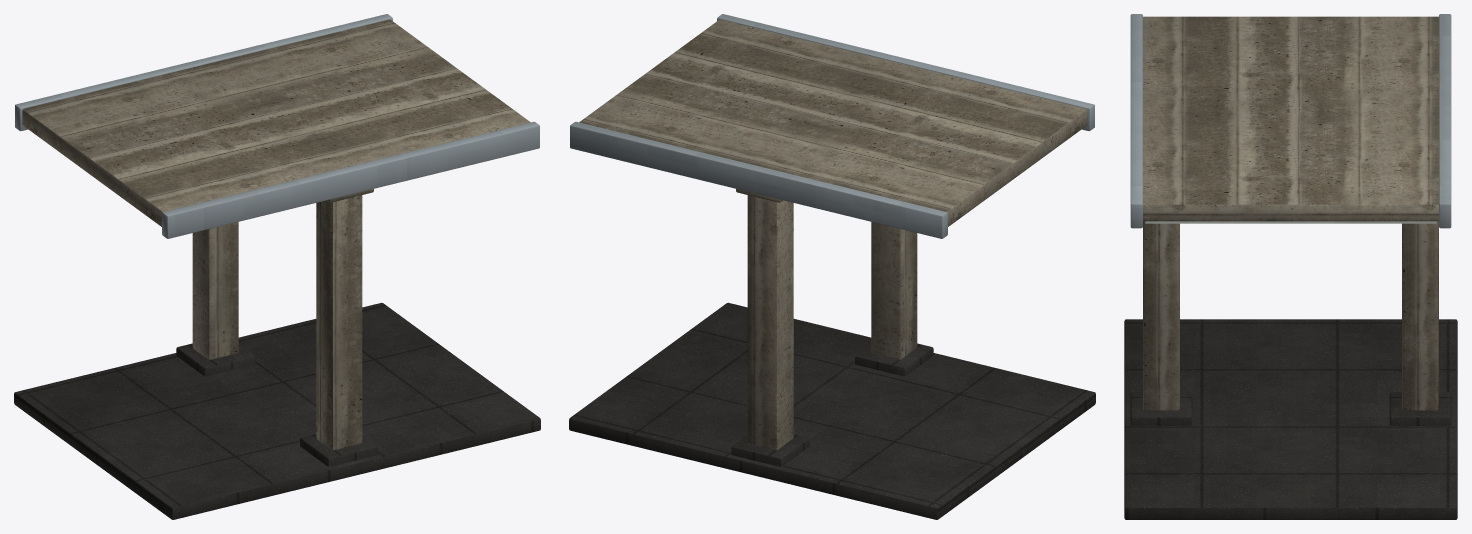
The model's file is fac_arcade.glb.
The picture shows the model from 3 angles, left to right: view 1: azimuth 30°, elevation 25°; view 2: azimuth 150°, elevation 25°; view 3: azimuth 270°, elevation 25°; orthographic projection. The views are drawn at different scales.
Visible parts, largest first — view 1: FAC_ARCADE; view 2: FAC_ARCADE; view 3: FAC_ARCADE.
Part boxes in pixels (x1,y1,x2,y2): FAC_ARCADE: [14, 14, 540, 519]; FAC_ARCADE: [569, 14, 1095, 519]; FAC_ARCADE: [1124, 14, 1457, 519].
Size of the model in its own units: 3.66 by 2.84 by 2.7.
5 materials, 4 textured.
